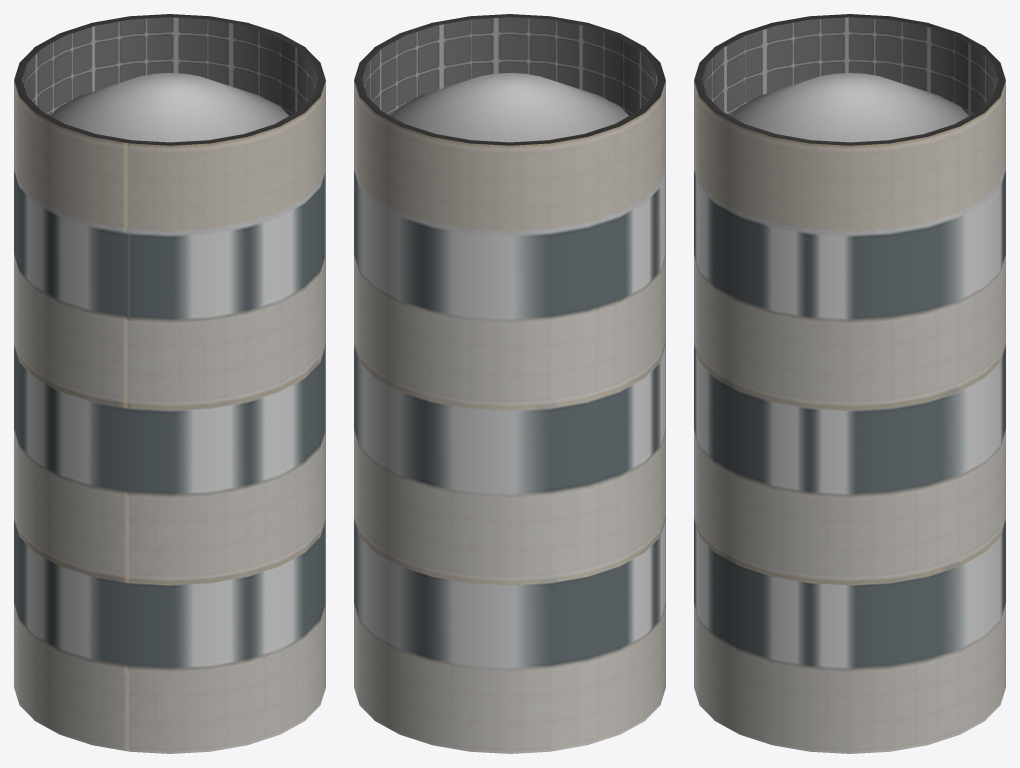
File: TITAN_III_B_2.obj
3 views of the same model, side by side, from view 1: azimuth 30°, elevation 25°; view 2: azimuth 150°, elevation 25°; view 3: azimuth 270°, elevation 25° (orthographic).
Parts seen in each view (by area): view 1: Cylinder1; view 2: Cylinder1; view 3: Cylinder1.
Part boxes in pixels (x1,y1,x2,y2): Cylinder1: (14,14,325,753); Cylinder1: (354,14,665,753); Cylinder1: (694,14,1005,753).
Size of the model in its own units: 3 by 6.46 by 3.
